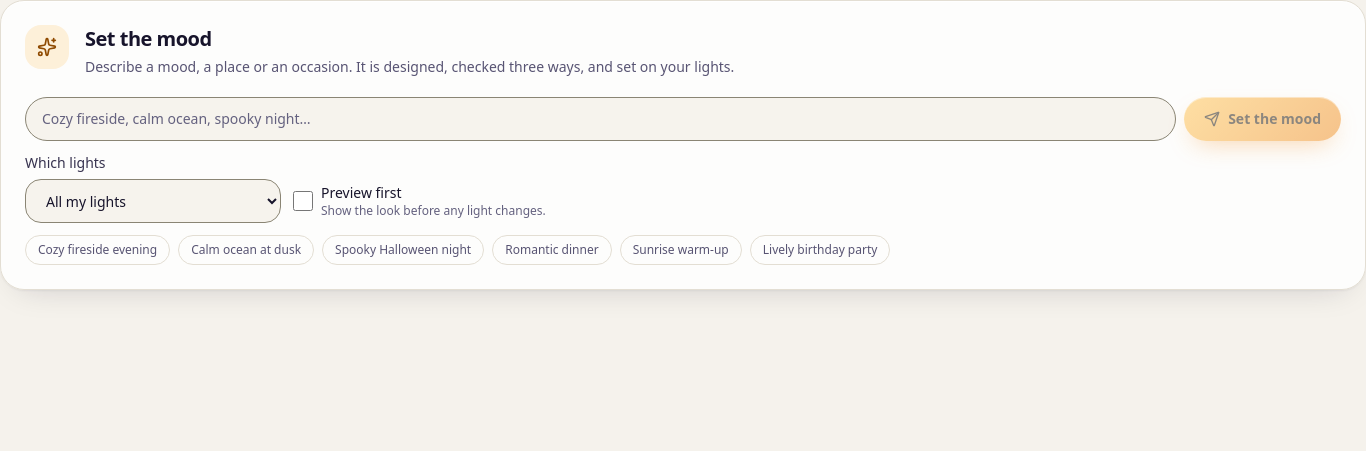
Test: Set the mood: the box › says what to ask for when the words are not a mood, and changes nothing
Type "turn everything off" into the field named "Describe the mood". click: (601, 119)
box: [25, 97, 1176, 141]
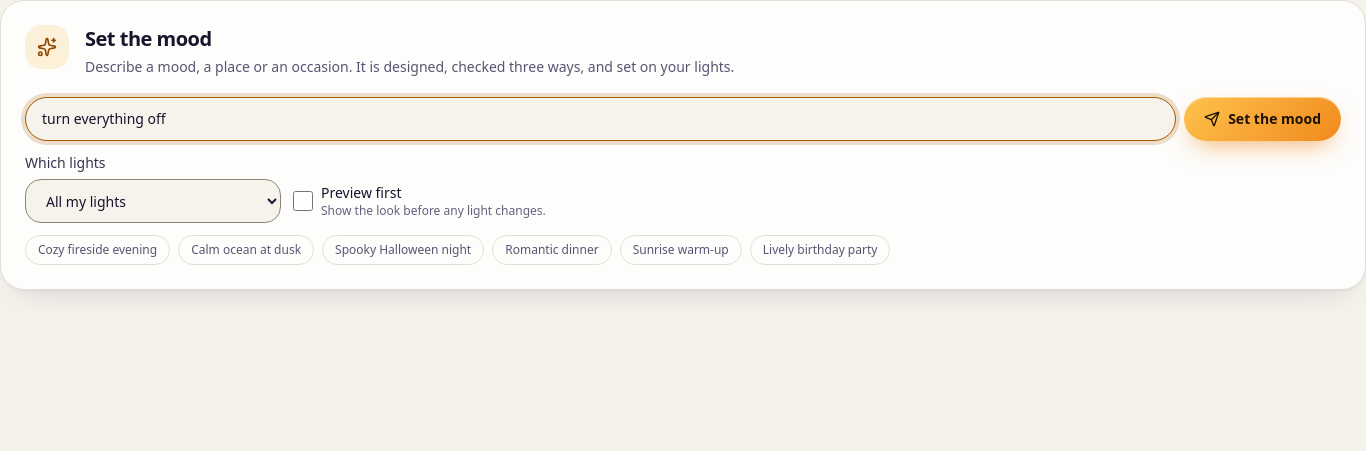
Click the button "Set the mood". click: (1263, 119)
box: [1184, 97, 1341, 141]
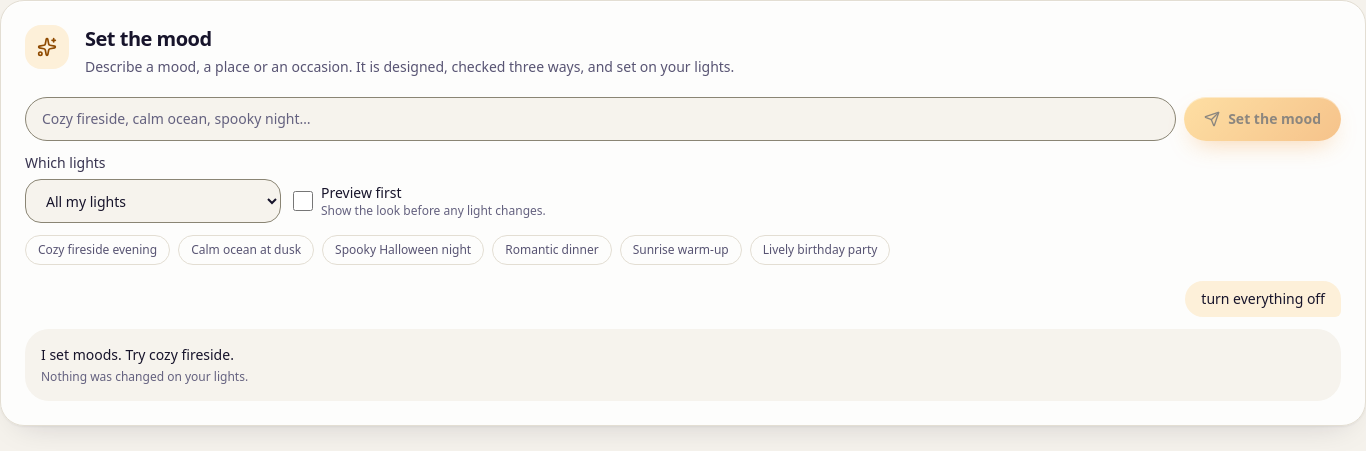
Expected: the text "I set moods. Try cozy fireside." is shown, [41, 345, 234, 364]
Expected: the text "Nothing was changed on your lights." is shown, [41, 368, 248, 385]
